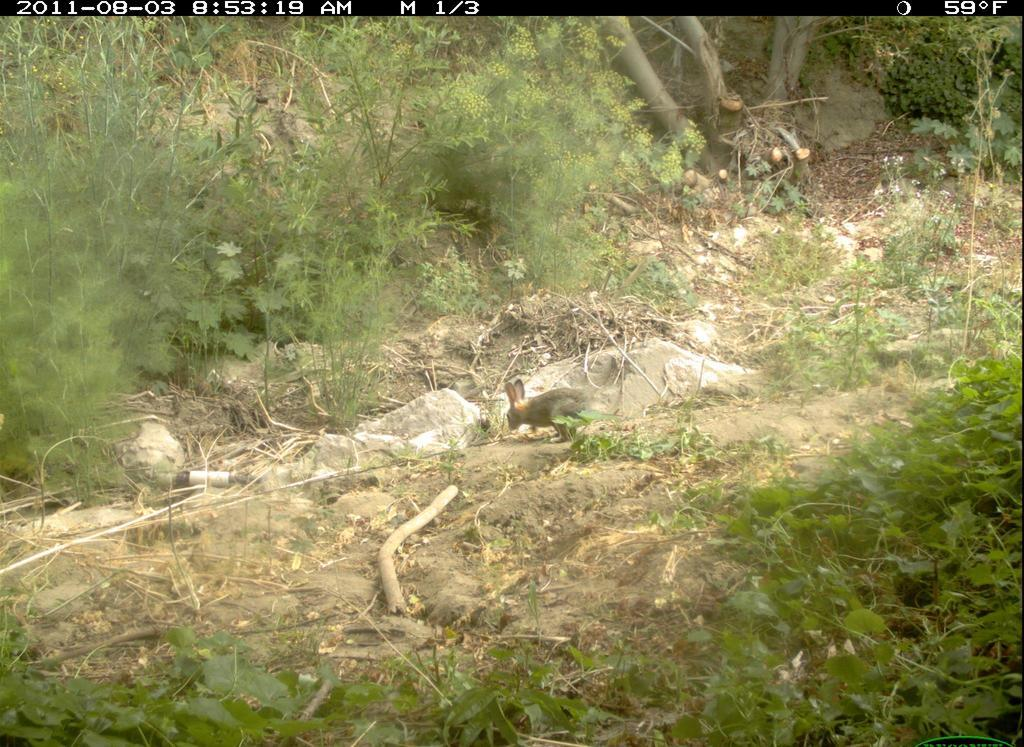rabbit: (493, 374, 609, 449)
